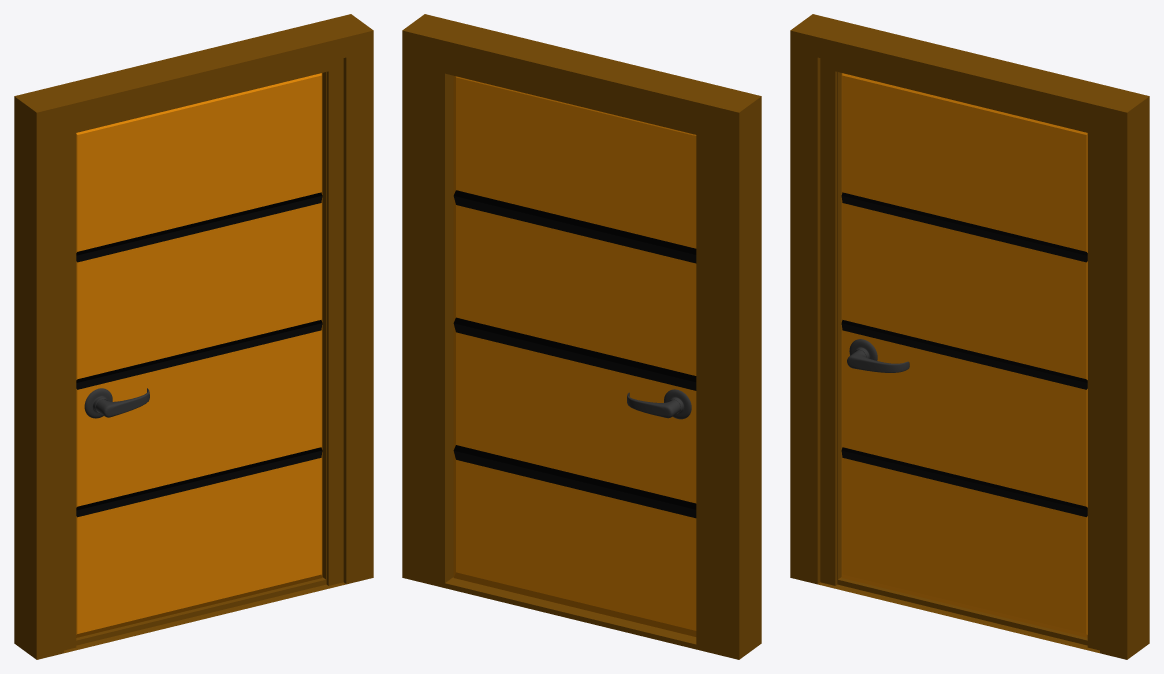
Rendered from Door.fbx.
3 views of the same model, side by side, from view 1: azimuth 30°, elevation 25°; view 2: azimuth 150°, elevation 25°; view 3: azimuth 330°, elevation 25° (orthographic).
Visible parts, largest first — view 1: Door, DoorFrame, Handle_Back; view 2: Door, DoorFrame, Handle_Back; view 3: Door, DoorFrame, Handle_Back.
Part boxes in pixels (x1,y1,x2,y2): Door: [76, 73, 322, 637]; DoorFrame: [14, 14, 373, 659]; Handle_Back: [84, 388, 149, 418]; Door: [453, 76, 696, 636]; DoorFrame: [402, 14, 761, 659]; Handle_Back: [627, 389, 691, 419]; Door: [841, 73, 1087, 637]; DoorFrame: [790, 14, 1149, 659]; Handle_Back: [847, 339, 909, 372].
Bounding box in the file's own units: 1562 × 1006 × 177.
